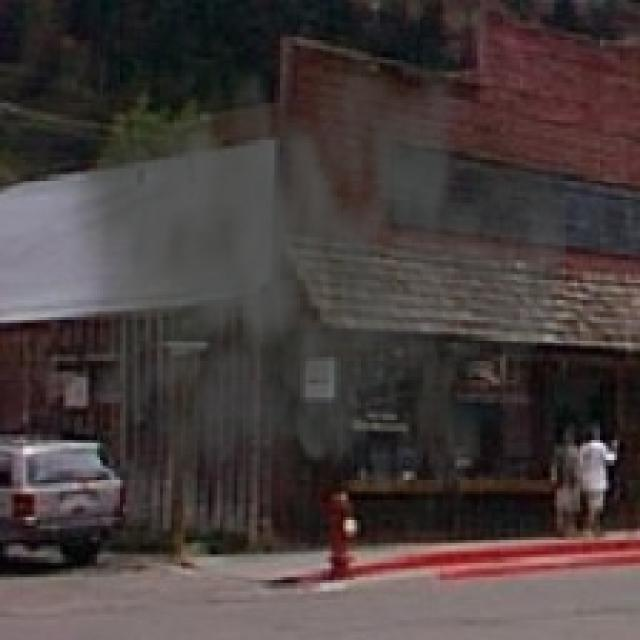Smoke: (48, 22, 566, 558)
